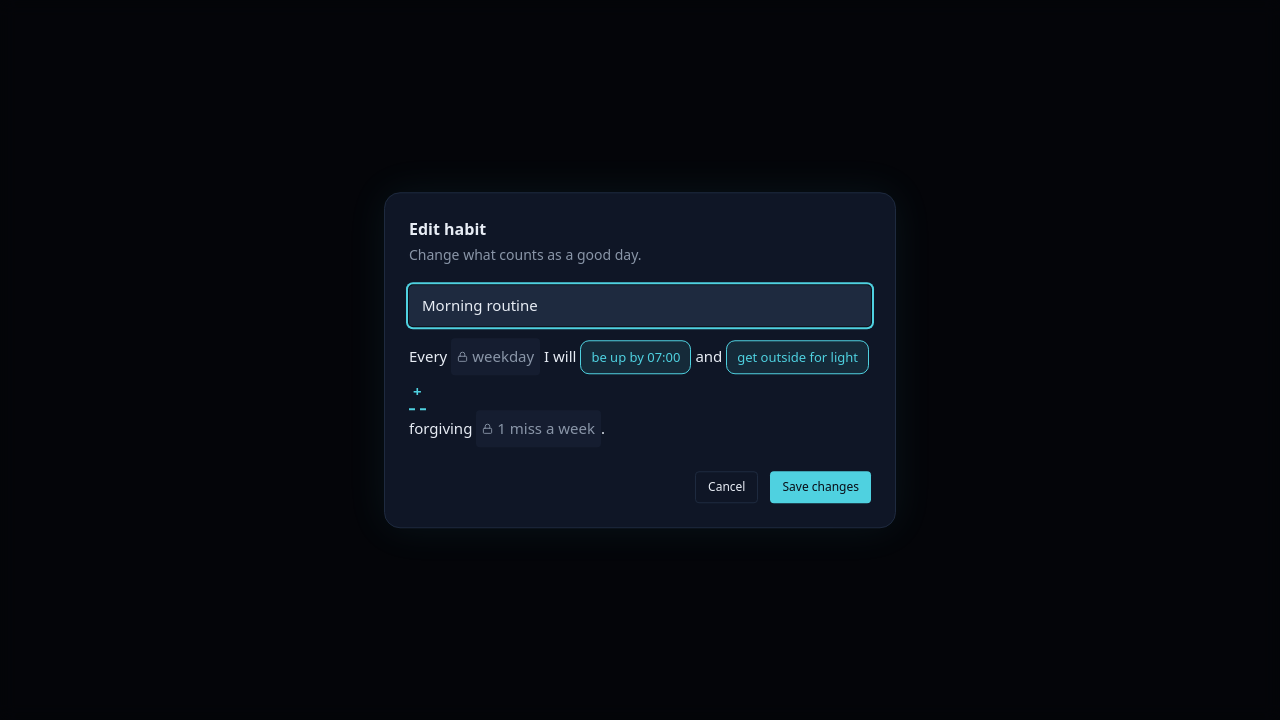
Scenario: EditHabitDialog — the locked cadence › quotes the route’s own refusal rather than a retry prompt it cannot act on
Click the button "Save changes" at (821, 487), box [770,471,871,503]
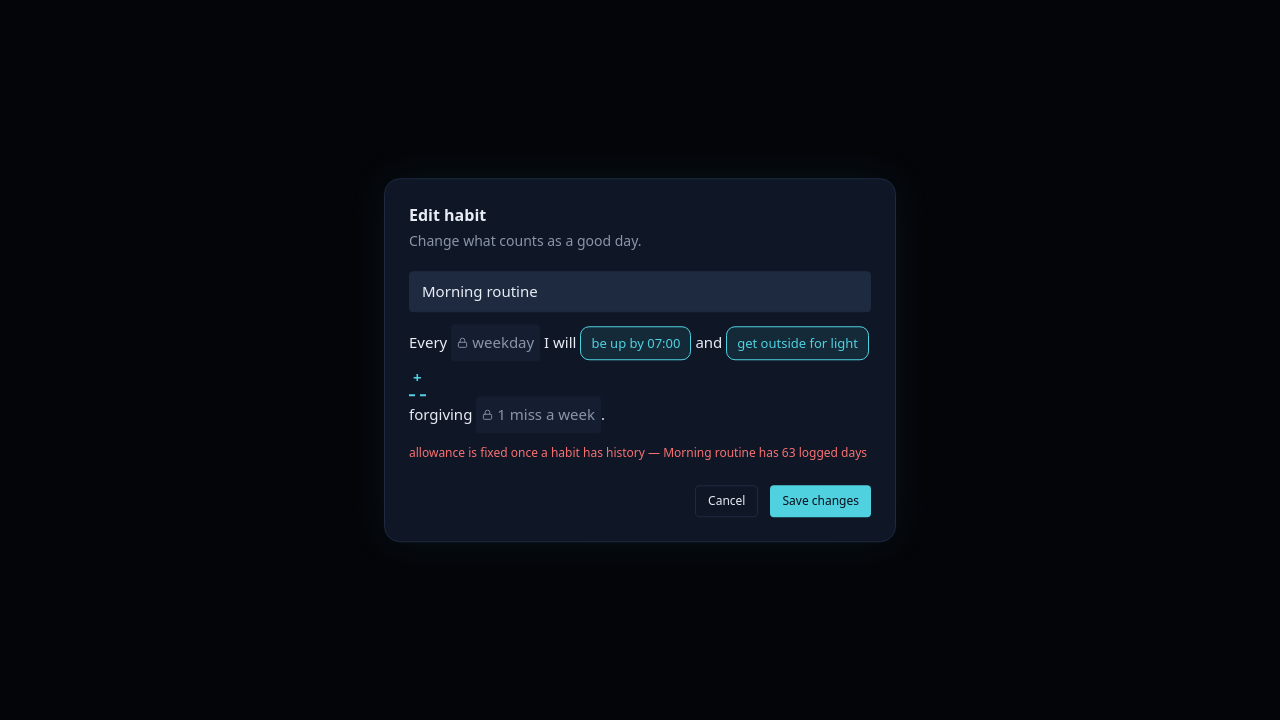
Now the text "allowance is fixed once a habit has history — Morning routine has 63 logged days" is shown, box [409,445,871,461]
